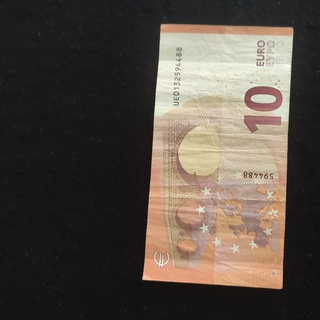10EUROBack: (140, 23, 294, 289)
